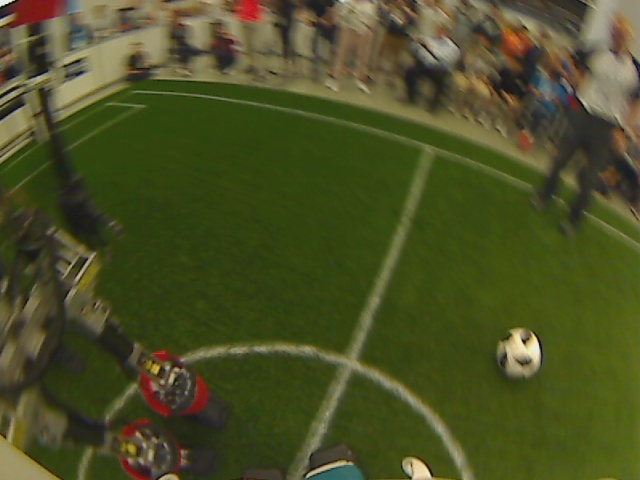ball: (494, 328, 543, 378)
